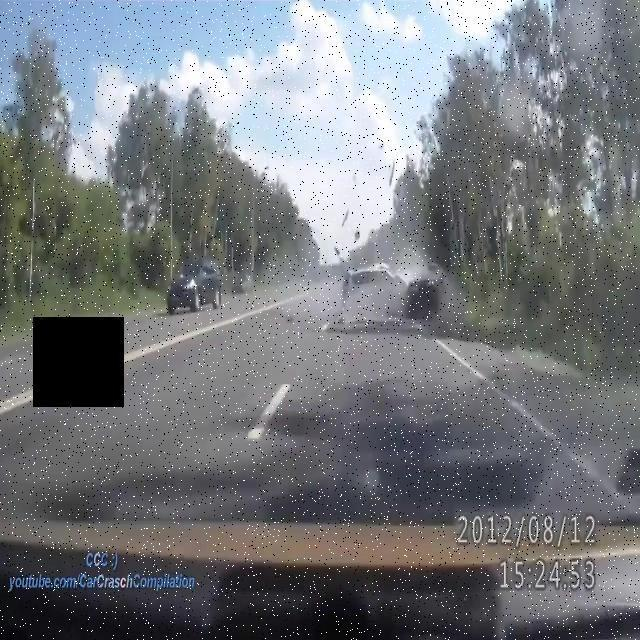accident: (340, 256, 451, 325)
